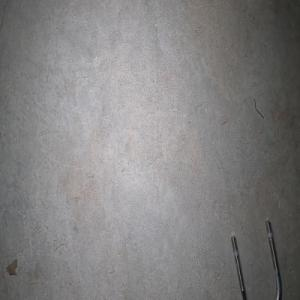ClampPart: (230, 218, 283, 300)
